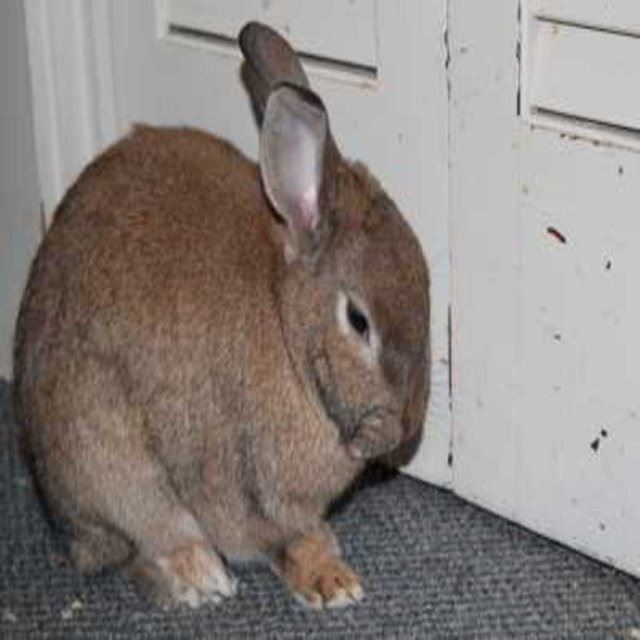Rabbit: (8, 19, 430, 609)
